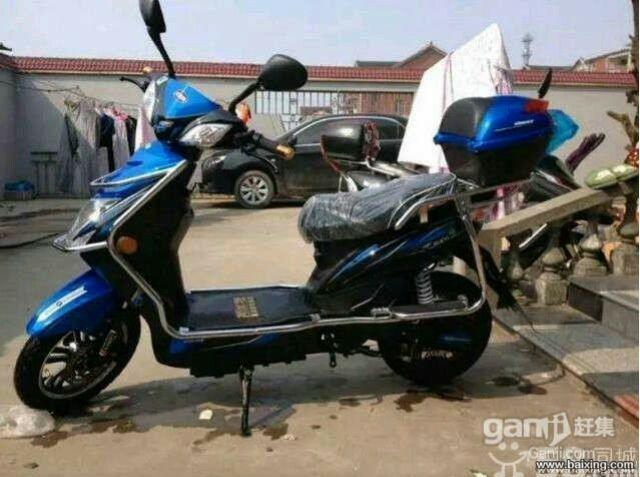电动车: (9, 1, 559, 442)
